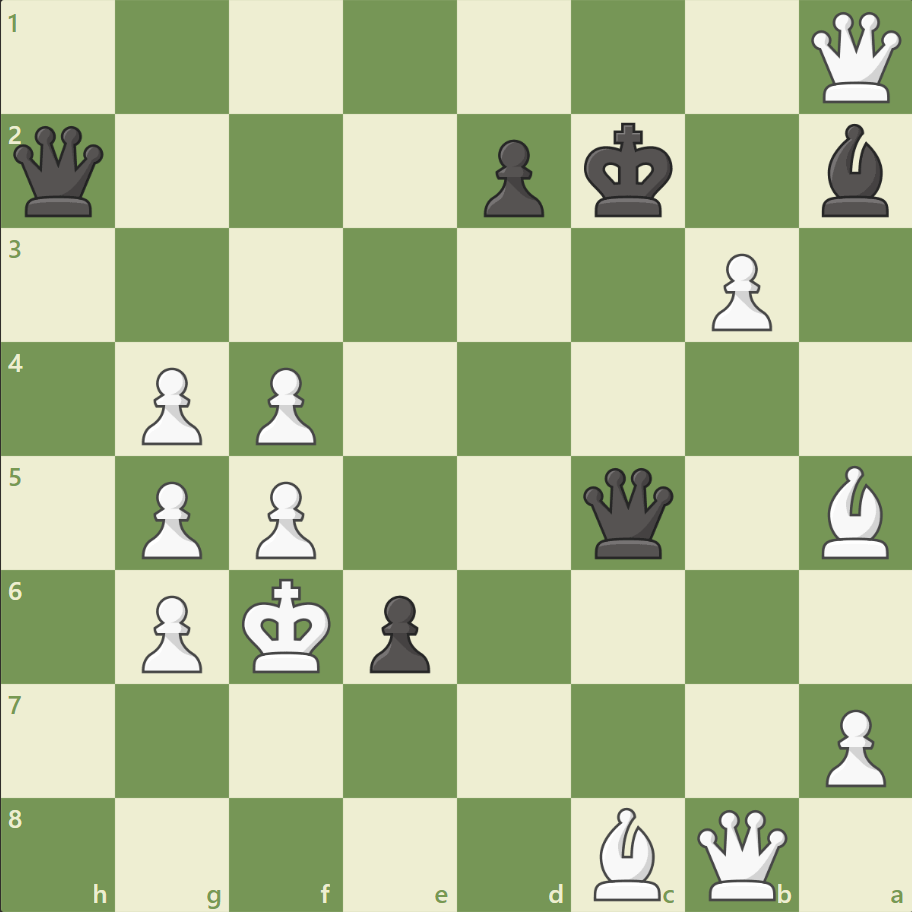B: (585, 801, 669, 904), (812, 460, 896, 563)
K: (238, 571, 338, 679)
P: (133, 586, 208, 677), (247, 473, 322, 564), (133, 473, 208, 564), (247, 359, 322, 450), (133, 359, 208, 450), (701, 246, 776, 337), (815, 700, 889, 791)
Q: (691, 804, 790, 903), (805, 9, 904, 108)
b: (812, 120, 896, 222)
k: (579, 117, 679, 225)
p: (474, 132, 549, 223), (361, 586, 435, 677)
q: (10, 122, 109, 222), (578, 463, 677, 562)
